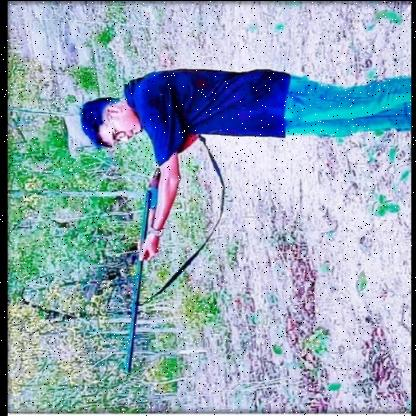rifle: (123, 130, 201, 373)
